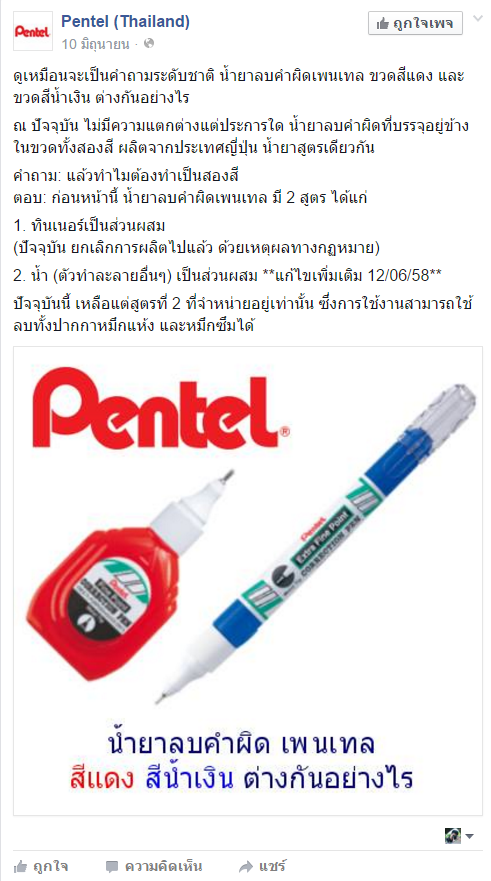Correction_fluid: (146, 377, 480, 716), (20, 464, 240, 687)
